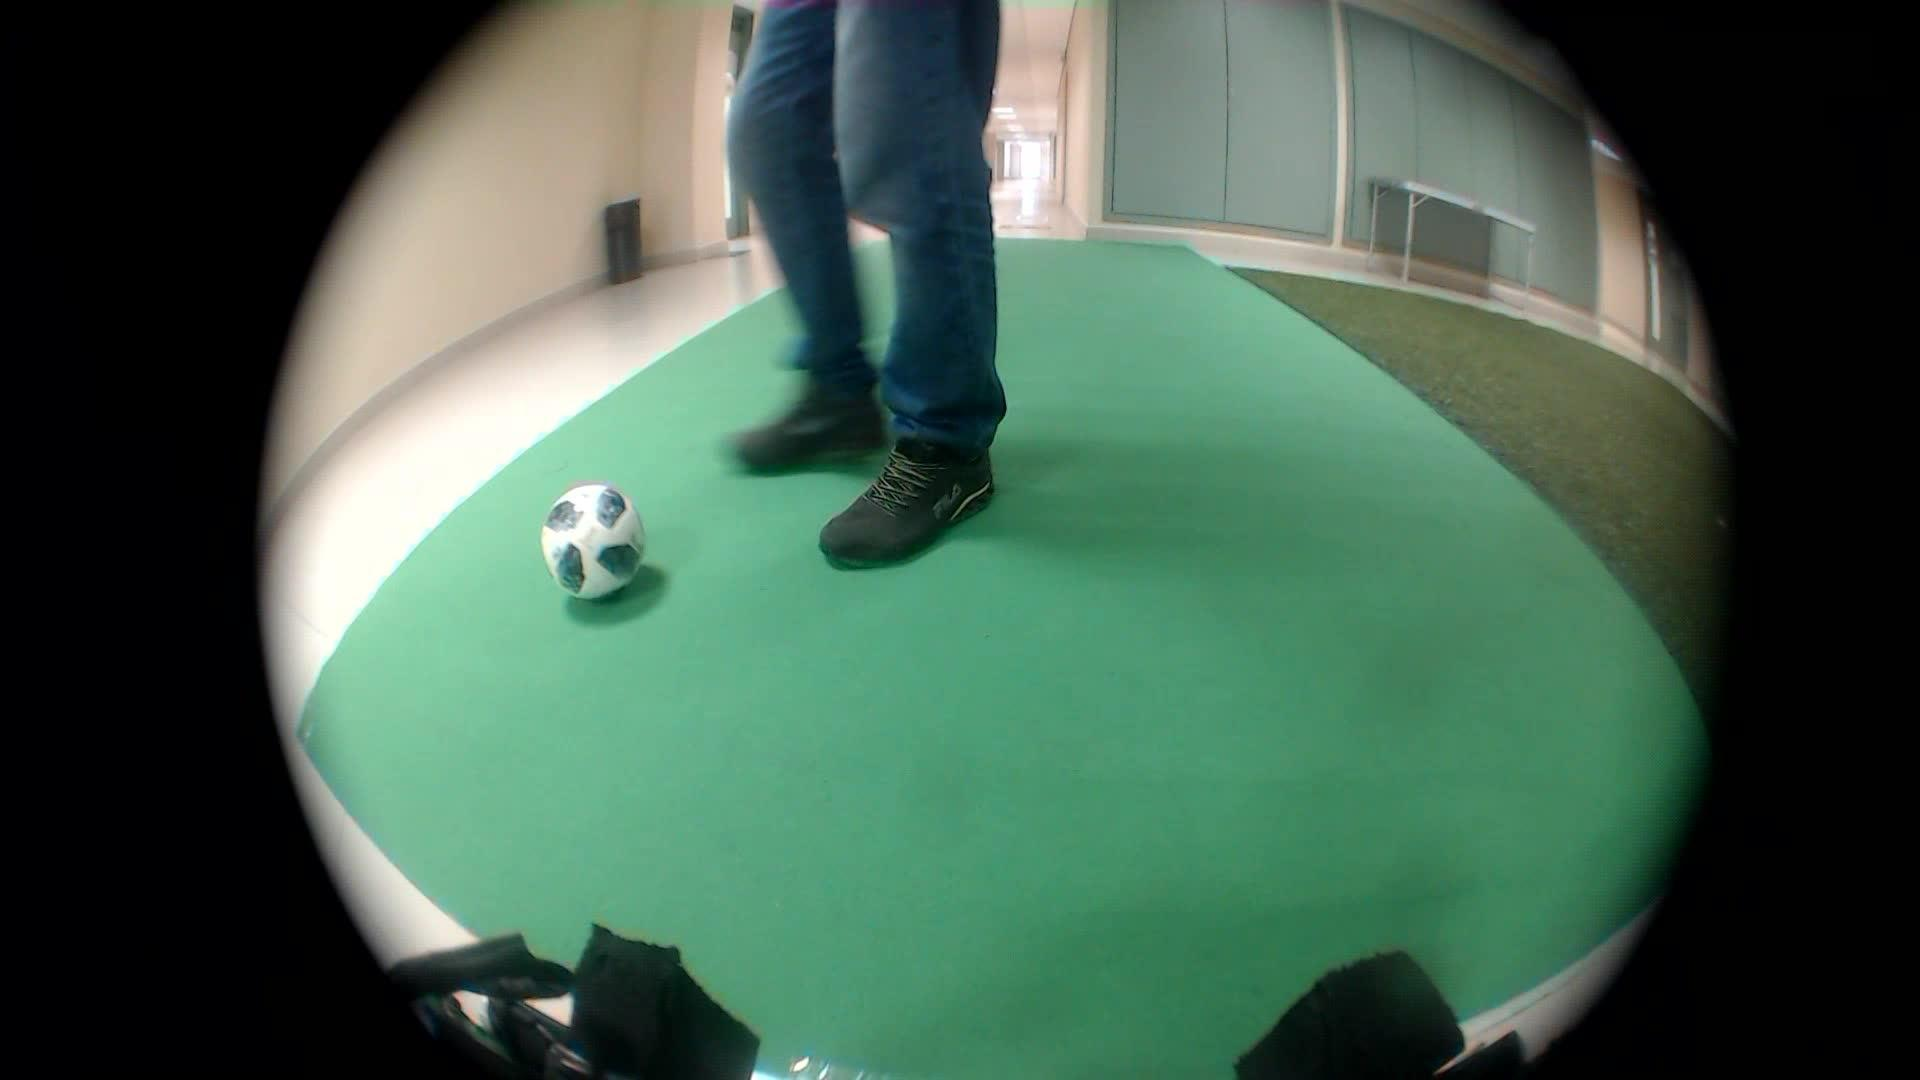ball: (527, 469, 658, 605)
